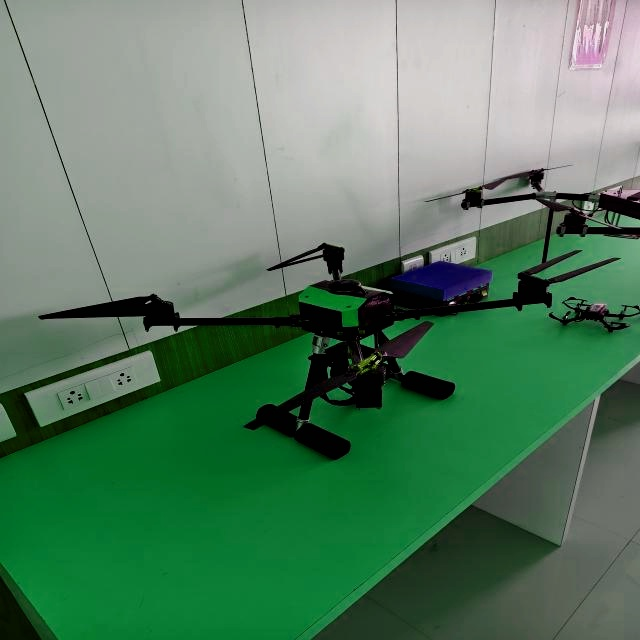quadcopter: (29, 226, 621, 460)
